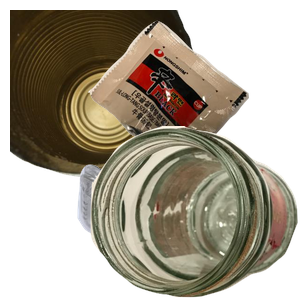glass: (90, 126, 300, 300)
metal: (10, 10, 200, 180)
plastic: (75, 147, 289, 300)
trash: (86, 18, 300, 194)
